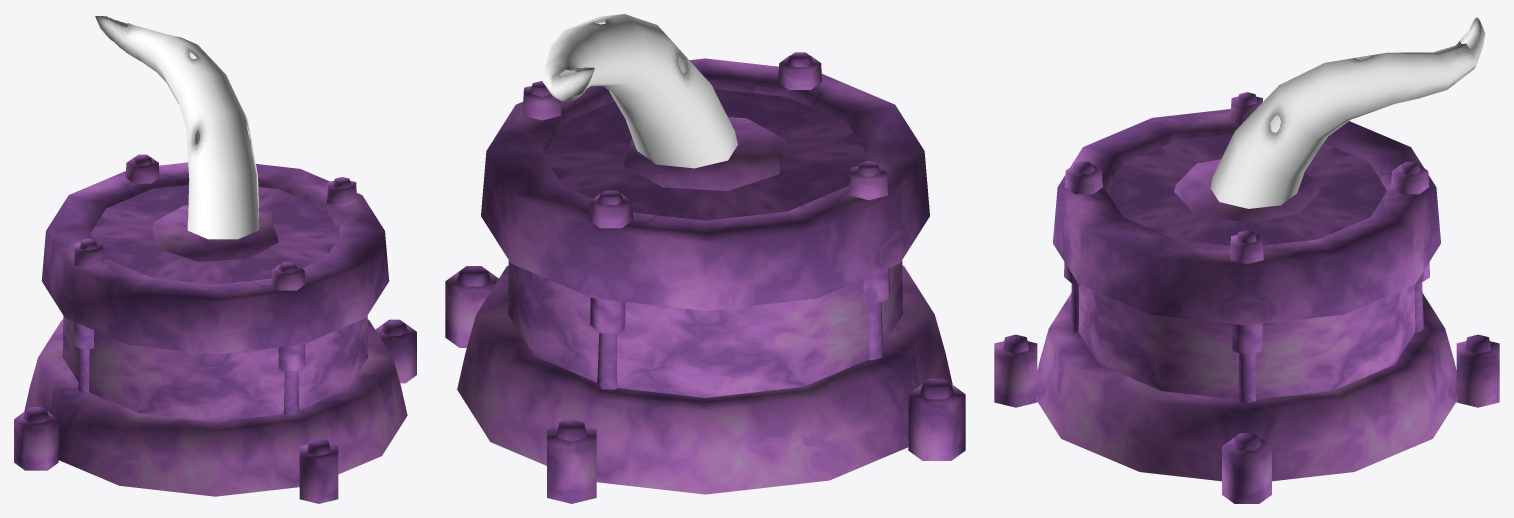
Rendered from etheriala.dae.
3 renders of one model, left to right at view 1: azimuth 30°, elevation 25°; view 2: azimuth 150°, elevation 25°; view 3: azimuth 270°, elevation 25°, orthographic. The views are drawn at different scales.
Visible parts, largest first — view 1: world_expansion06_doodads_ethereal_7et_ethereal_voidforge01_, creature_voidetherealboss_voidetherealbosstentacle_m2_Geoset; view 2: world_expansion06_doodads_ethereal_7et_ethereal_voidforge01_, creature_voidetherealboss_voidetherealbosstentacle_m2_Geoset; view 3: world_expansion06_doodads_ethereal_7et_ethereal_voidforge01_, creature_voidetherealboss_voidetherealbosstentacle_m2_Geoset.
Part boxes in pixels (x1,y1,x2,y2): world_expansion06_doodads_ethereal_7et_ethereal_voidforge01_: (14, 154, 416, 503); creature_voidetherealboss_voidetherealbosstentacle_m2_Geoset: (95, 16, 259, 239); world_expansion06_doodads_ethereal_7et_ethereal_voidforge01_: (445, 52, 965, 503); creature_voidetherealboss_voidetherealbosstentacle_m2_Geoset: (542, 14, 737, 168); world_expansion06_doodads_ethereal_7et_ethereal_voidforge01_: (994, 92, 1499, 503); creature_voidetherealboss_voidetherealbosstentacle_m2_Geoset: (1210, 17, 1485, 208).
Size of the model in its own units: 5.39 by 5.39 by 4.5.
2 materials, 2 textured.
